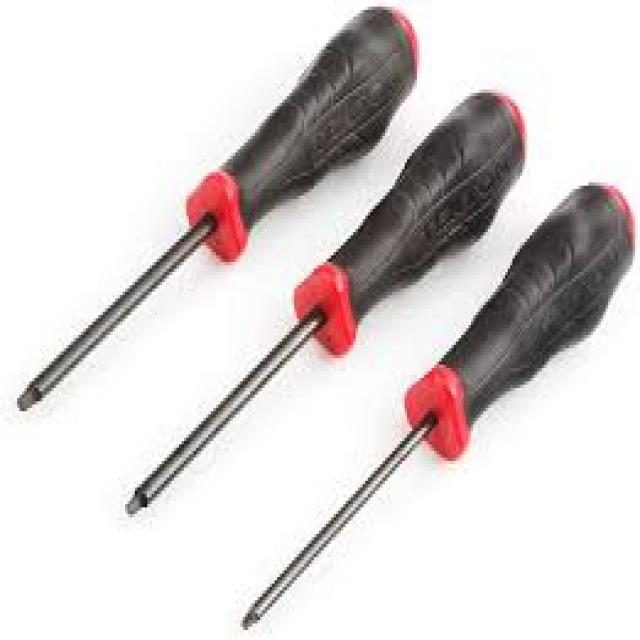Screwdriver: (242, 186, 632, 626), (126, 91, 524, 513), (18, 7, 416, 410)
